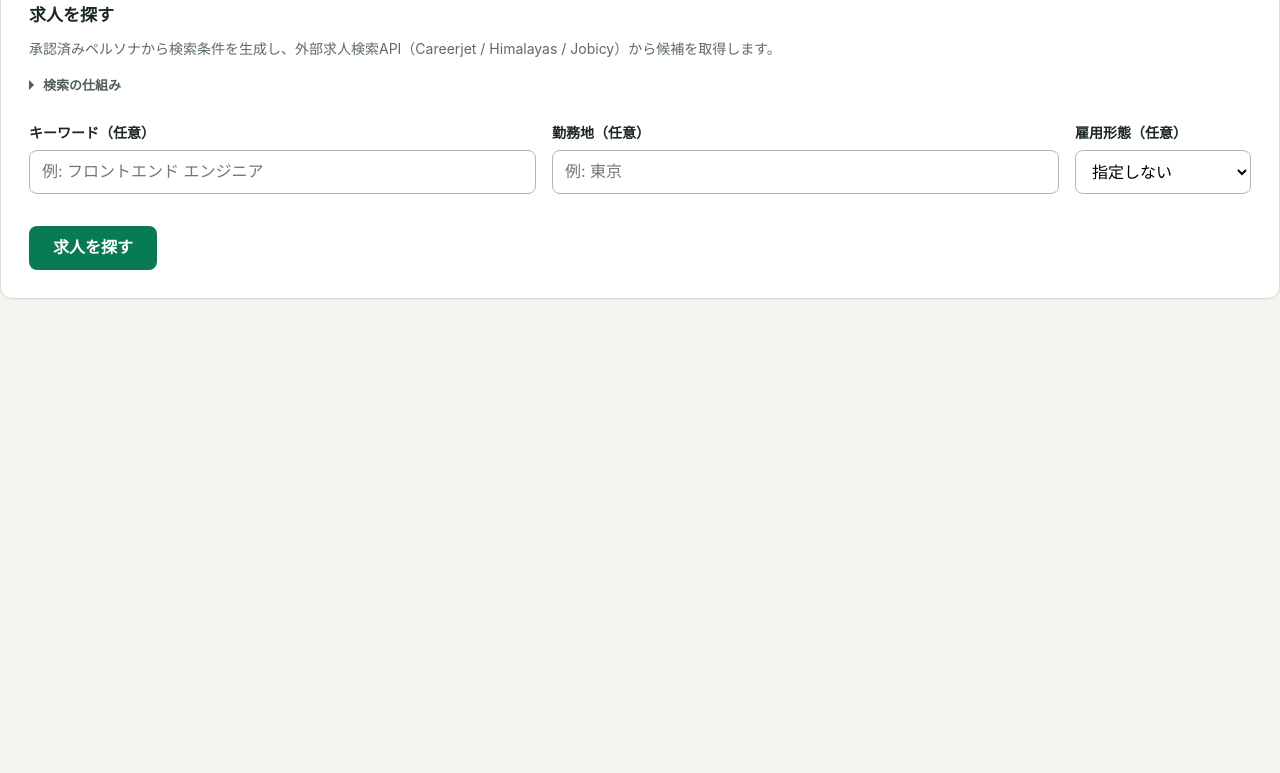
JobDiscovery one-click scoring (#115) › duplicate scoring reuses saved evaluation
What coordinates should you click on to do the following:
click the button "求人を探す"
I would click on:
 (93, 248)
Its box is [29,226,157,270].
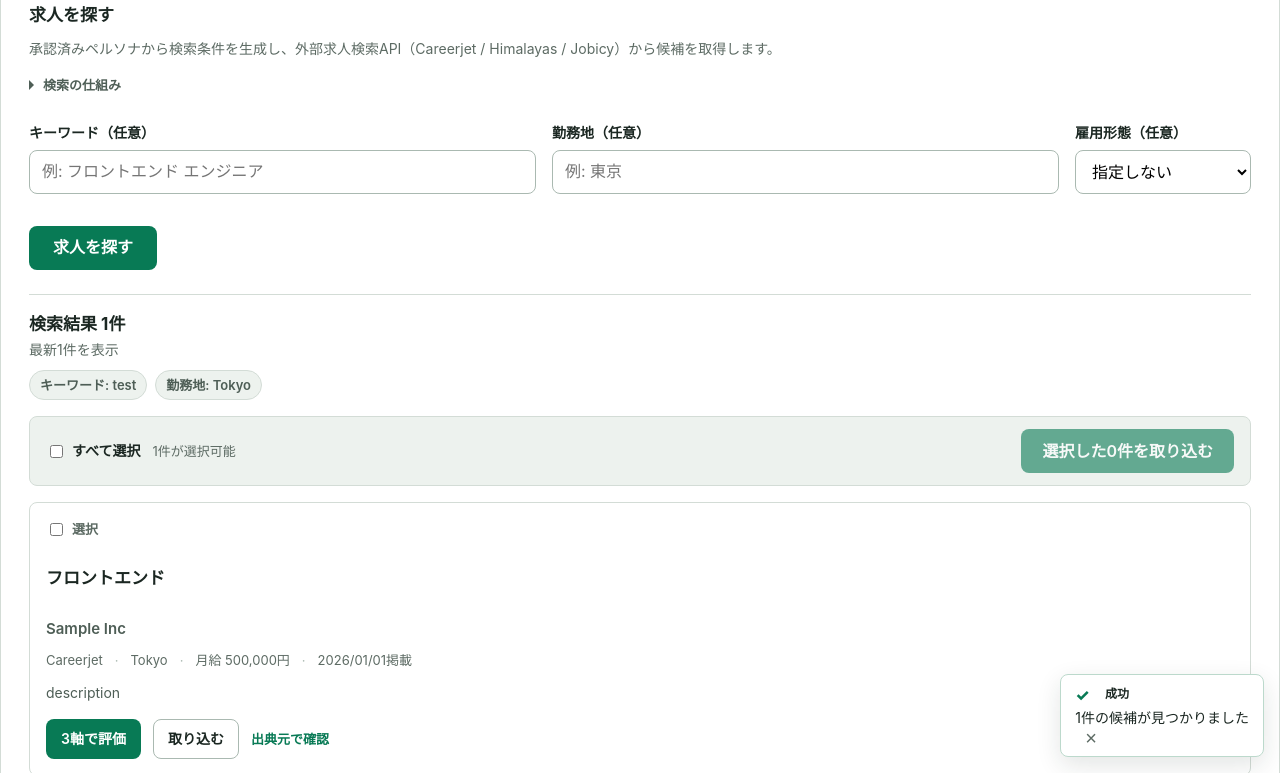
Result: the heading "フロントエンド" is shown at [46,568,165,588]
What coordinates should you click on to do the following:
click the button "3軸で評価"
I would click on:
 (93, 739)
Its box is [46,719,141,759].
(page scrolled)
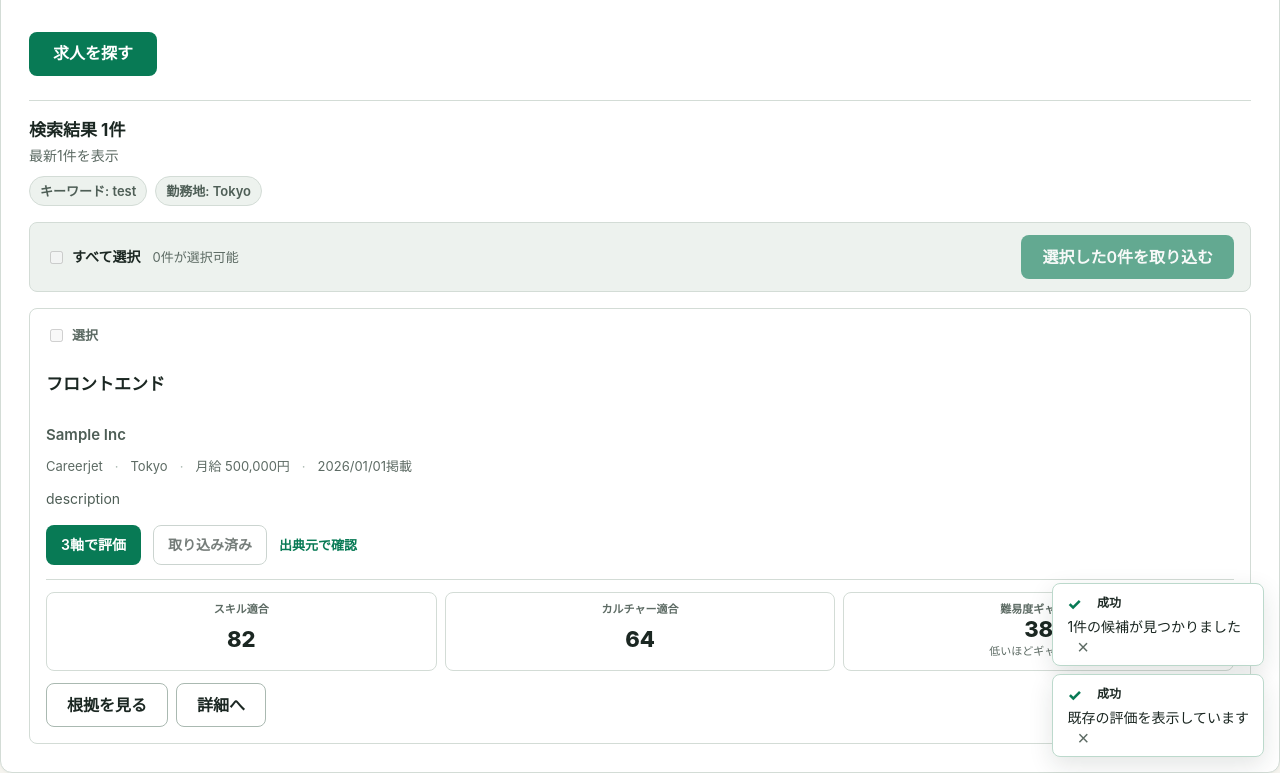
Result: the text "82" is shown at [227,626,256,652]
